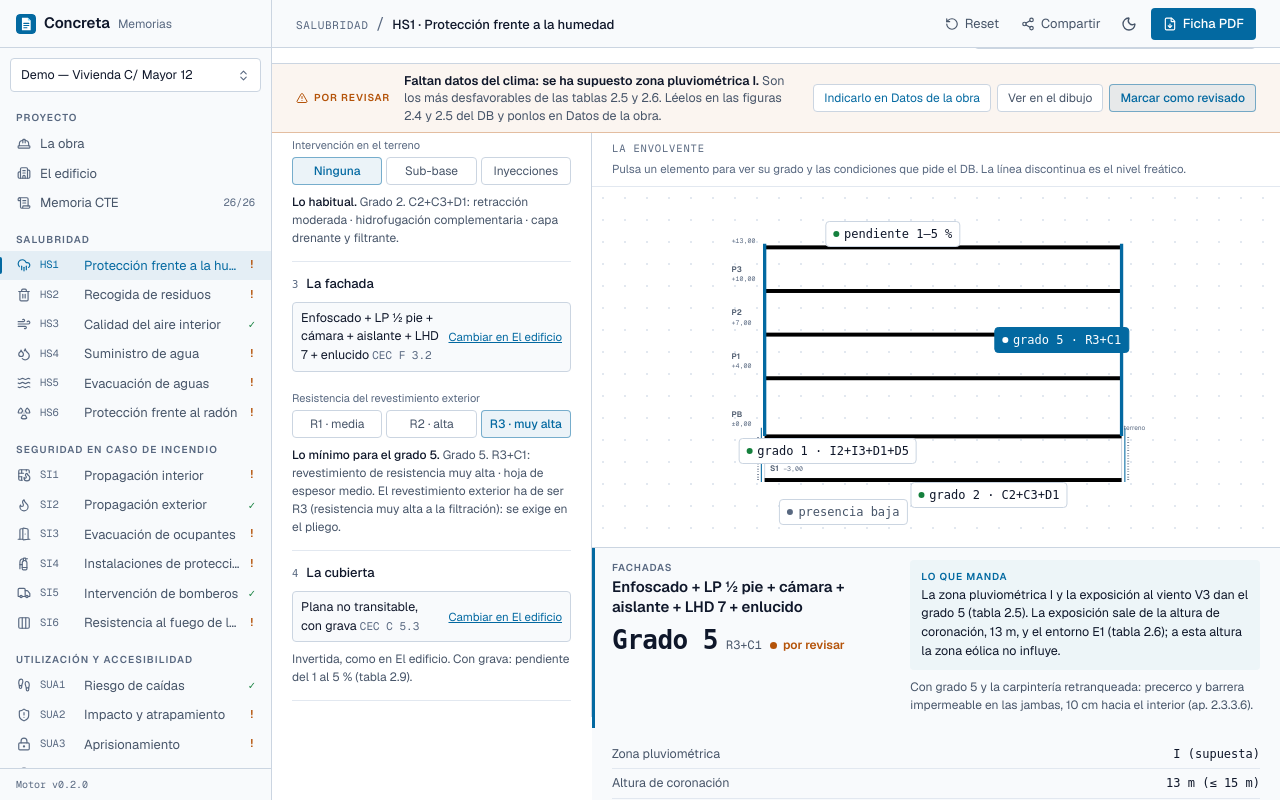
Test: HS1 · desde El edificio (feature-17) › la fachada es la de El edificio: con un revestimiento R1 no llega al grado 5 y se vuelve a lo propuesto; el muro por dentro la condición
(page scrolled)
Check: the element "La envolvente" is shown, box left=592, top=133, right=1279, bottom=717
Check: the number of links "Cambiar en El edificio" is 2, box left=448, top=328, right=562, bottom=346; left=448, top=608, right=562, bottom=625
Click the button "R1 · media" at (337, 424), box left=292, top=410, right=382, bottom=438
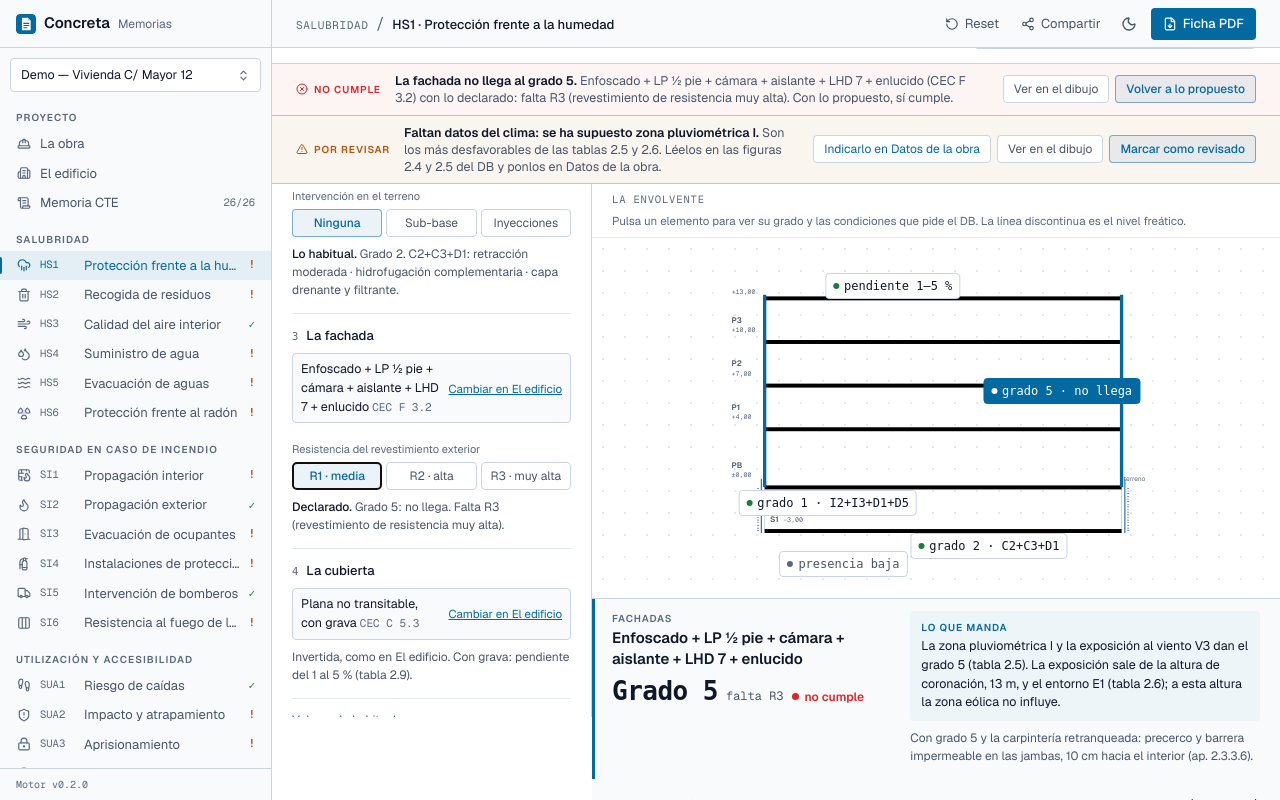
Check: the element named "Avisos" shows "La fachada no llega al grado 5.", box left=395, top=72, right=577, bottom=89
Check: the text "Declarado." is shown, box left=292, top=499, right=352, bottom=515
Click the button "Volver a lo propuesto" at (1186, 89), box left=1115, top=75, right=1256, bottom=103
(page scrolled)
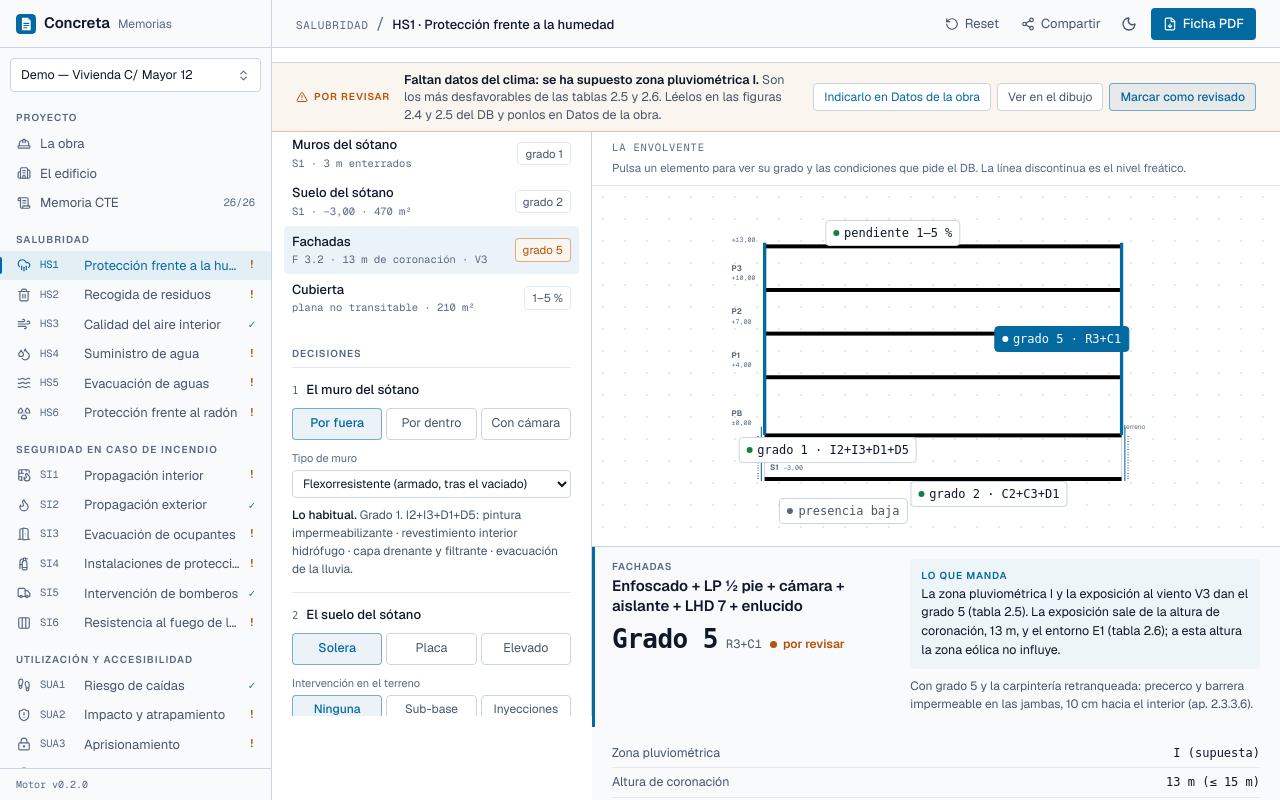
Click the button "Por dentro" at (431, 424), box left=386, top=408, right=477, bottom=440
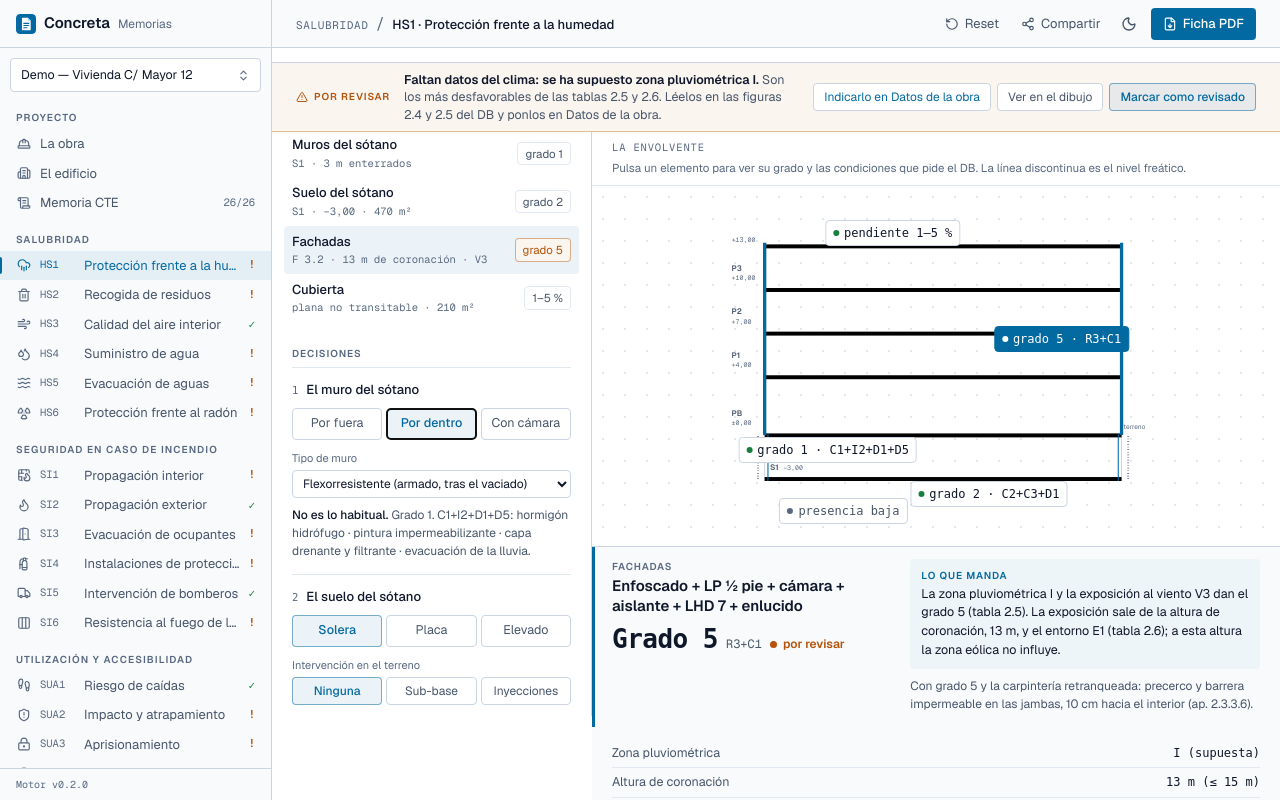
Click the button with aria-label "Muros del sótano: grado 1 · C1+I2+D1+D5" at (828, 450), box left=738, top=437, right=917, bottom=463
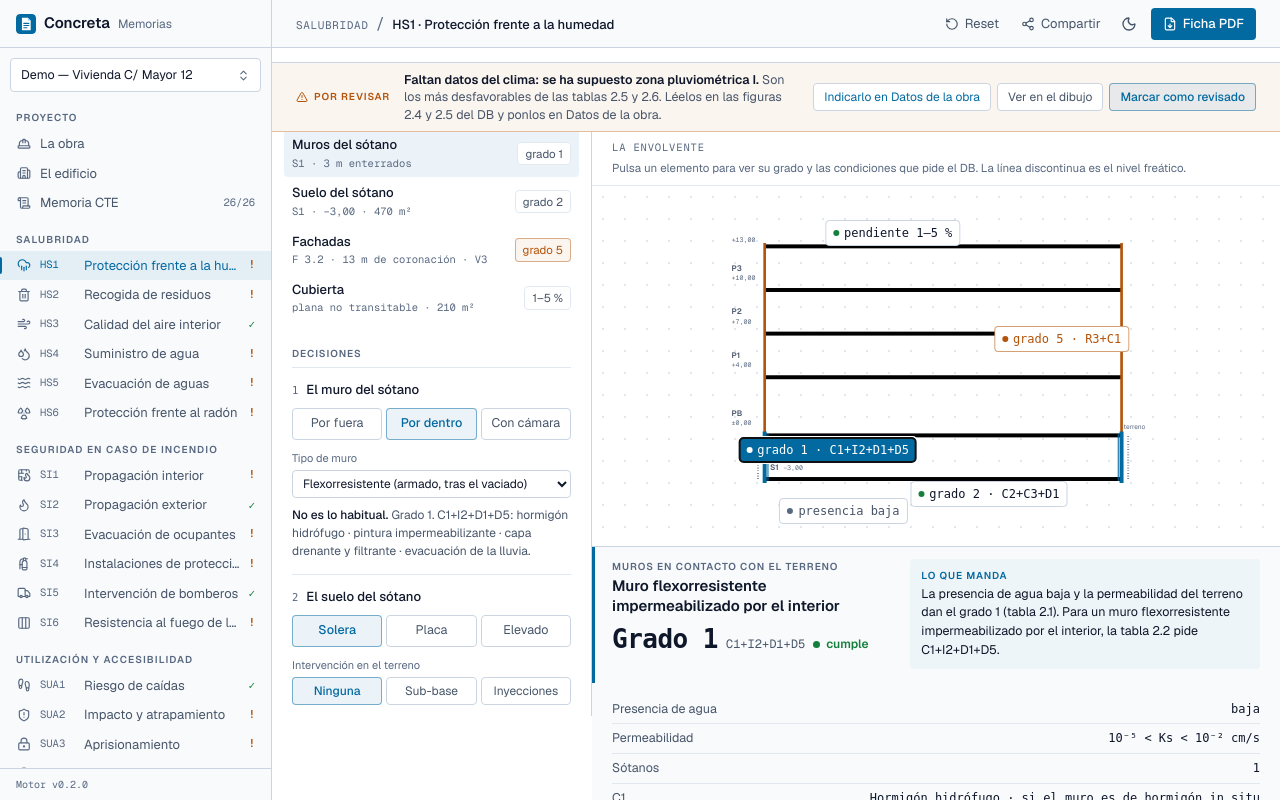
Check: the element "La envolvente" shows "Muro flexorresistente impermeabilizado por el interior", box left=612, top=576, right=840, bottom=615
